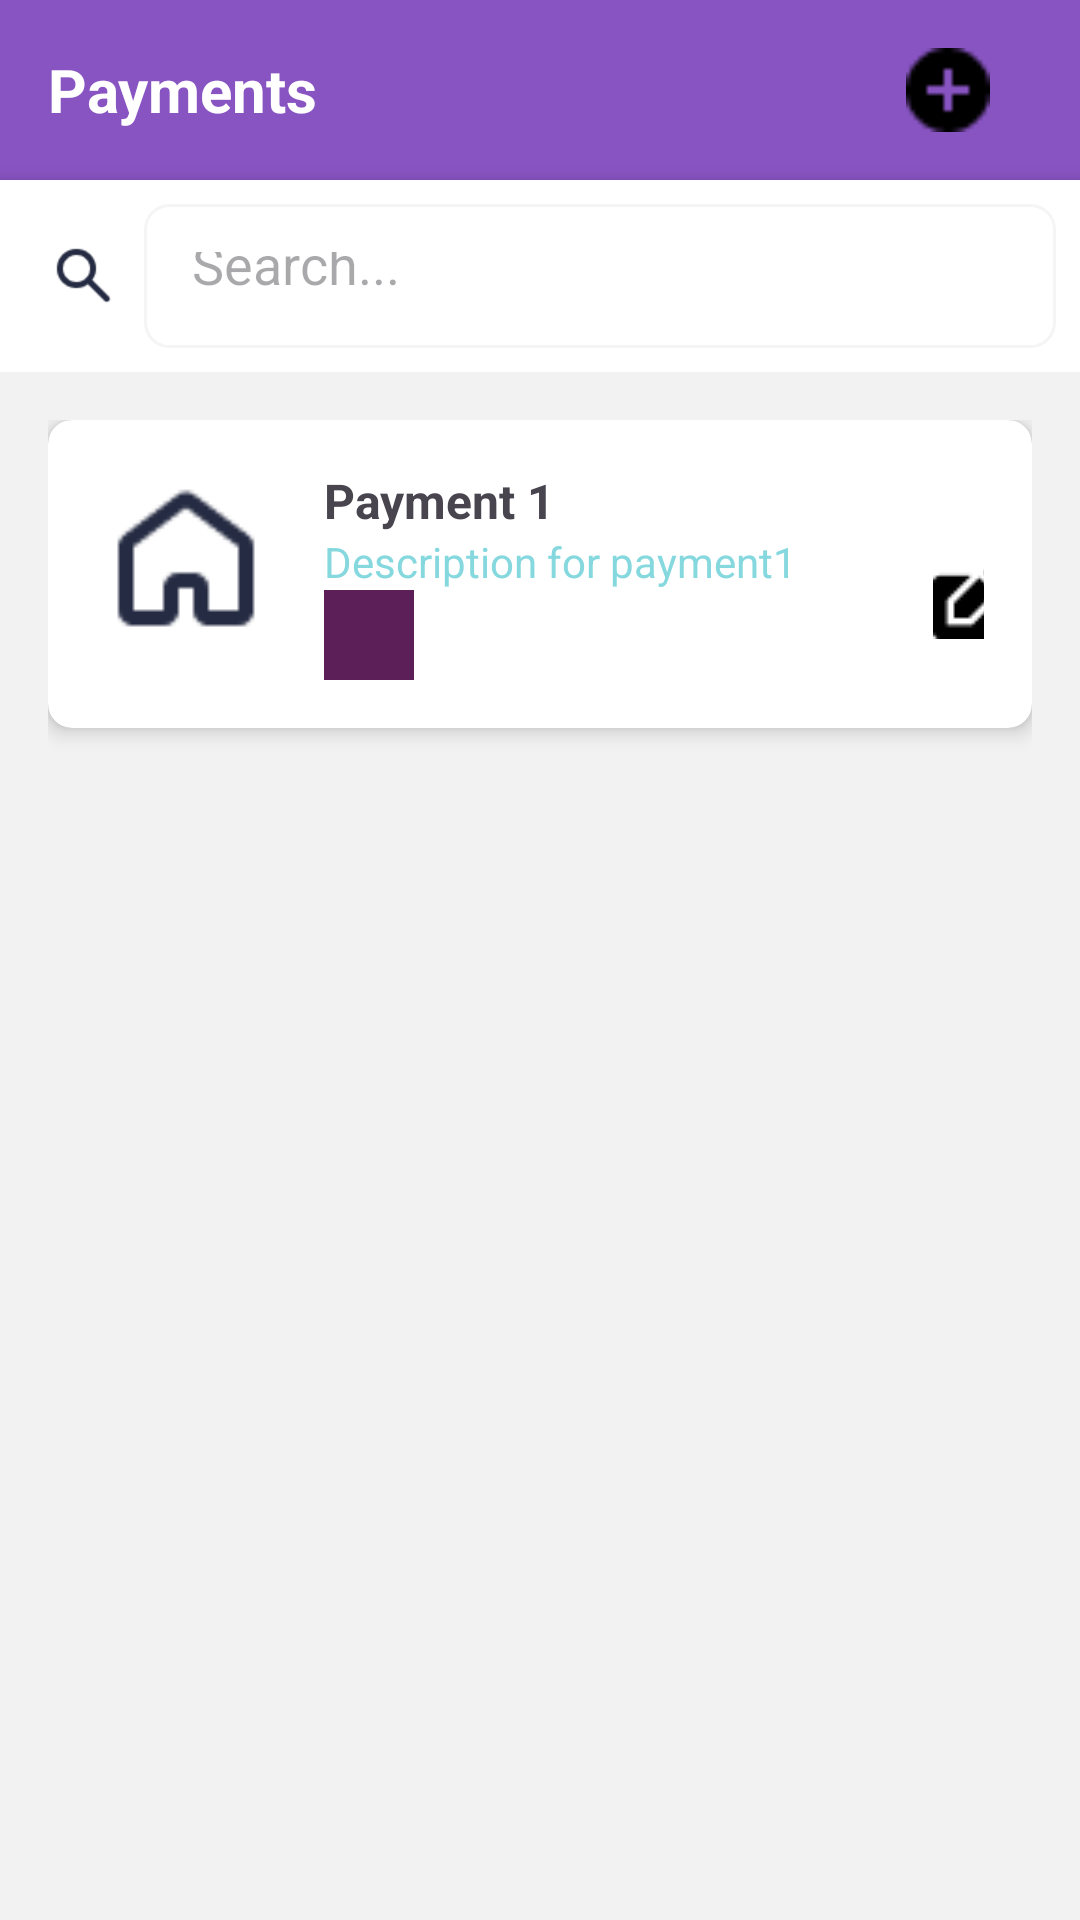

Screen size 1080 x 1920. Icon name, then its center in pixels as [x,y]:
Property Icon: [186,558]
